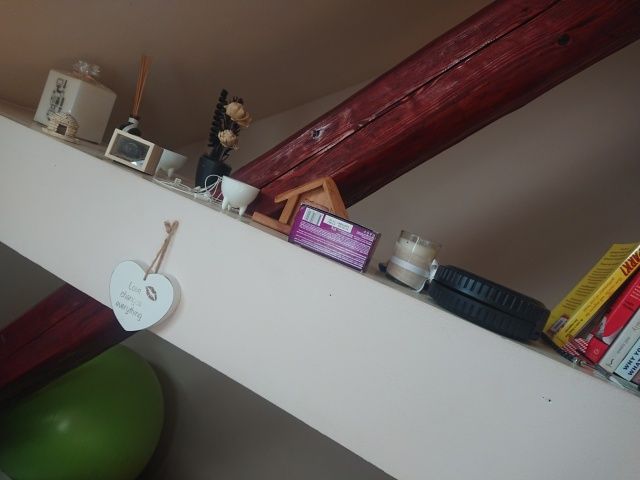Franck Black Currant Tea 60g: (286, 201, 383, 274)
